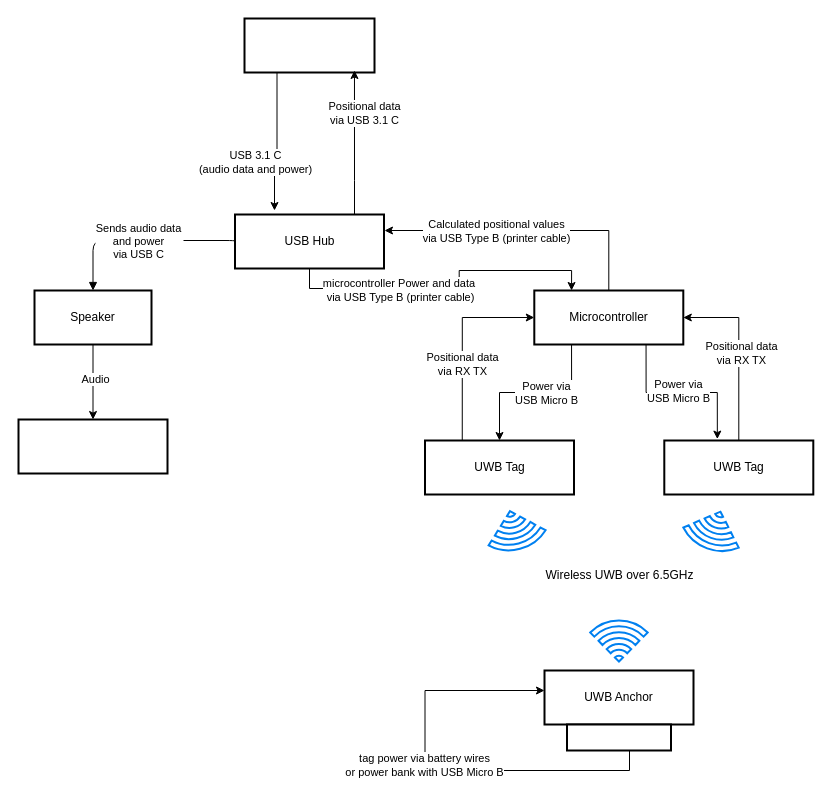
Some shapes in this 831 by 796 pixel diagram are drawn without their labels. The shapes that lost their labels are listed below. From the top down, each one's box as (x1, y1, x2, y2) in pixels, then its label:
(243, 17, 375, 73): Nvidia Jetson
(17, 418, 168, 474): NDP enjoyers
(566, 723, 672, 751): Battery
